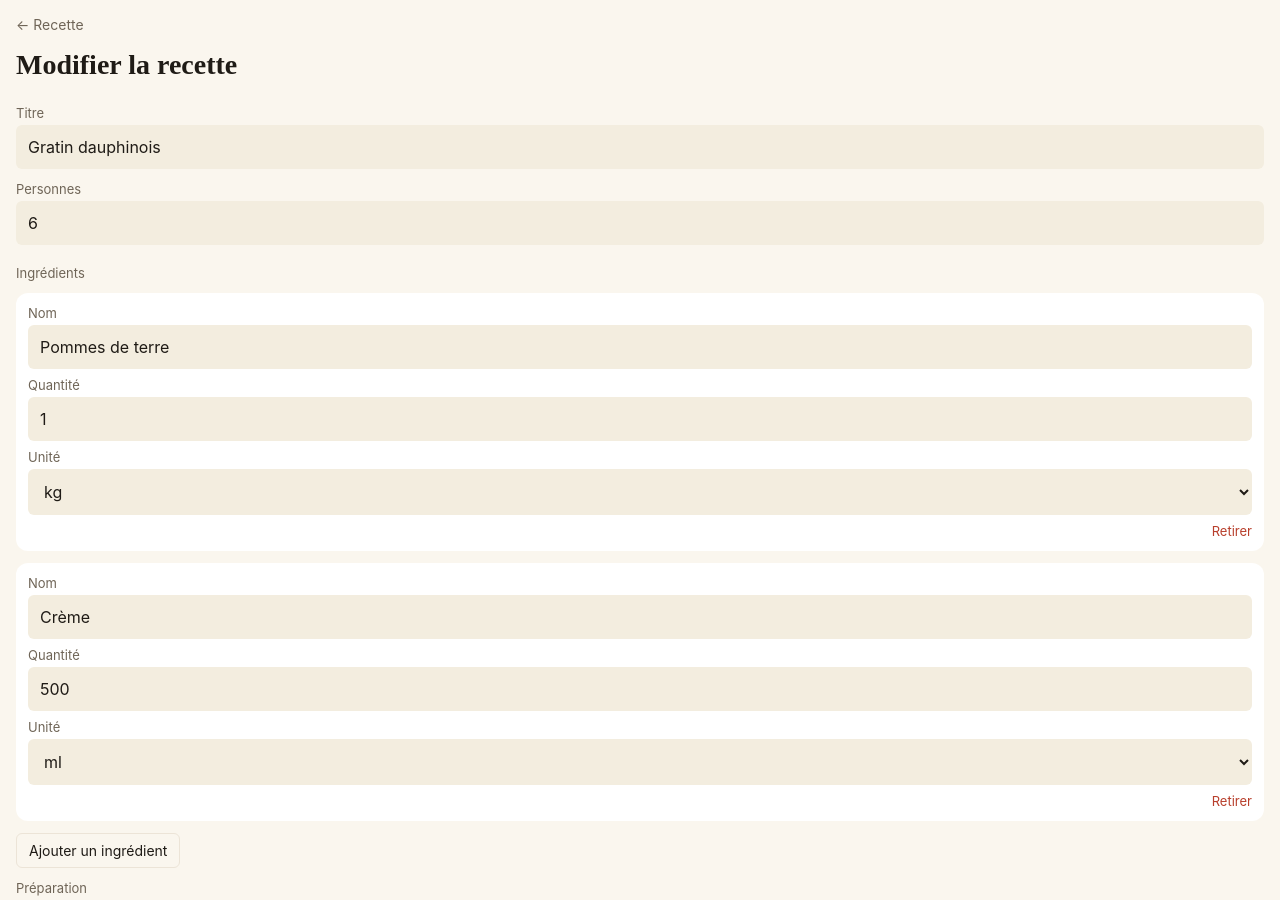
RecipeEditContainer › verrouille « Enregistrer » si la seule quantité restante dépasse le maximum sûr
Expected: the field labelled "Titre" is shown, [16, 125, 1264, 169]
Click the button with aria-label "retirer l'ingrédient" at (1232, 801), box [1212, 793, 1252, 809]
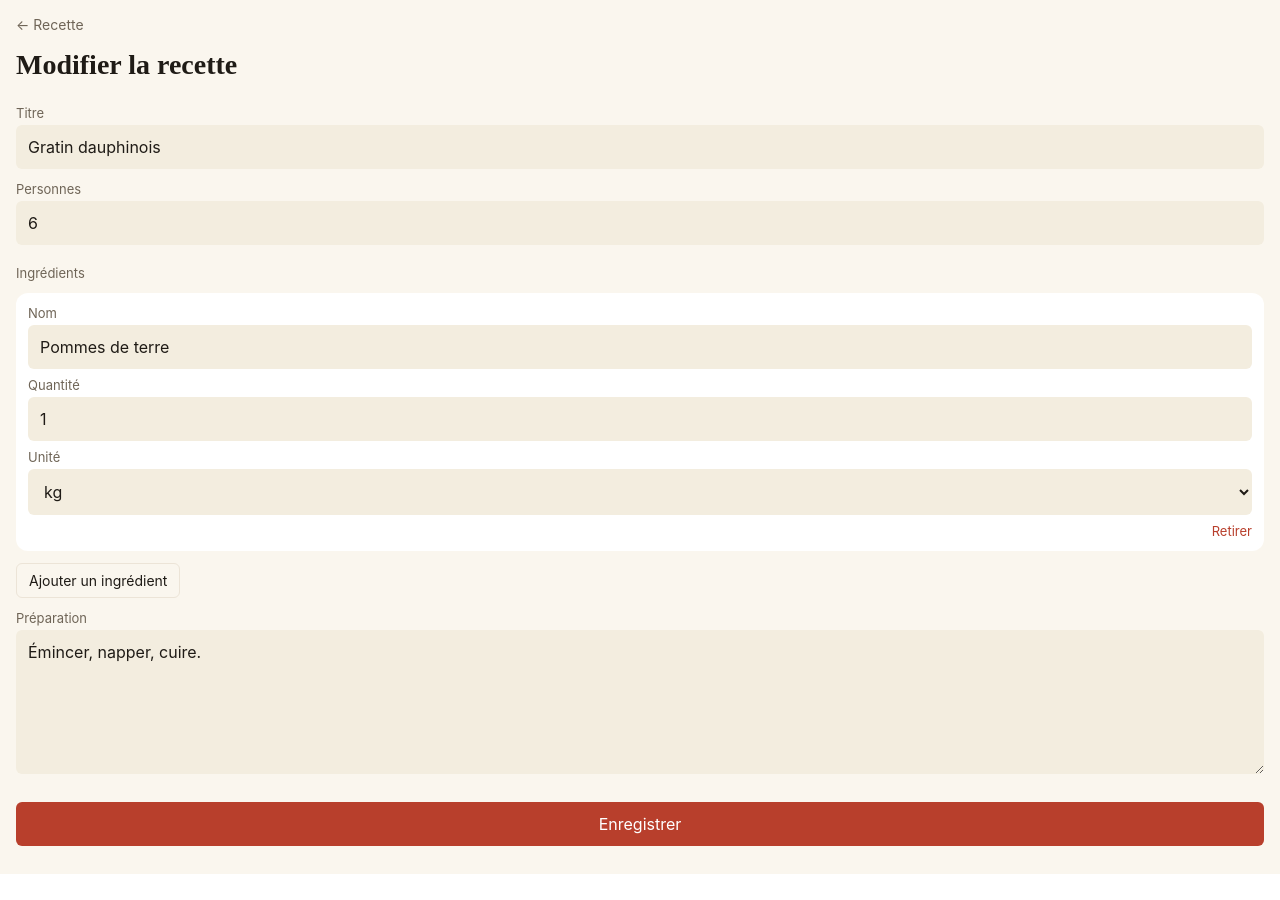
Expected: the button "Enregistrer" is enabled, [16, 802, 1264, 846]
Replace the text in the number field labelled "Quantité" with "1e307" at (640, 419), box [28, 397, 1252, 441]
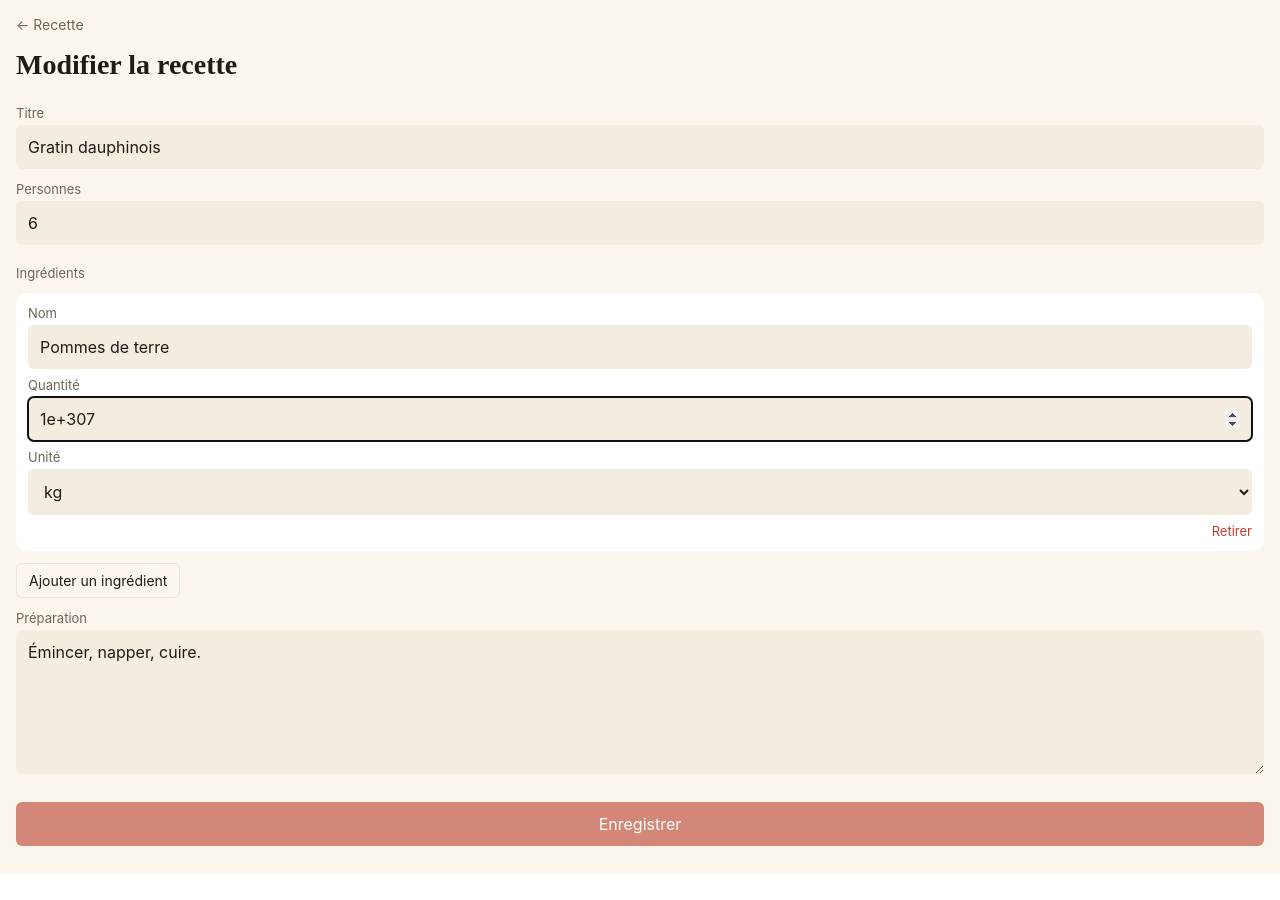
Now the button "Enregistrer" is disabled, box [16, 802, 1264, 846]
Now the number field labelled "Quantité" holds "307", box [28, 397, 1252, 441]
